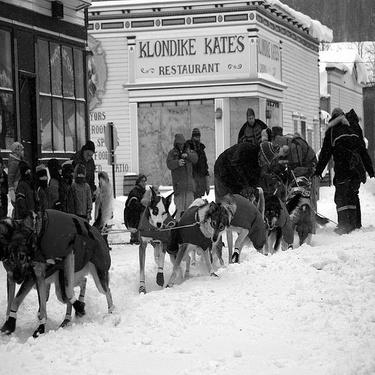dog: (18, 169, 118, 329), (2, 208, 89, 342), (170, 194, 238, 290), (213, 187, 272, 271), (133, 187, 179, 291), (255, 187, 296, 254)
